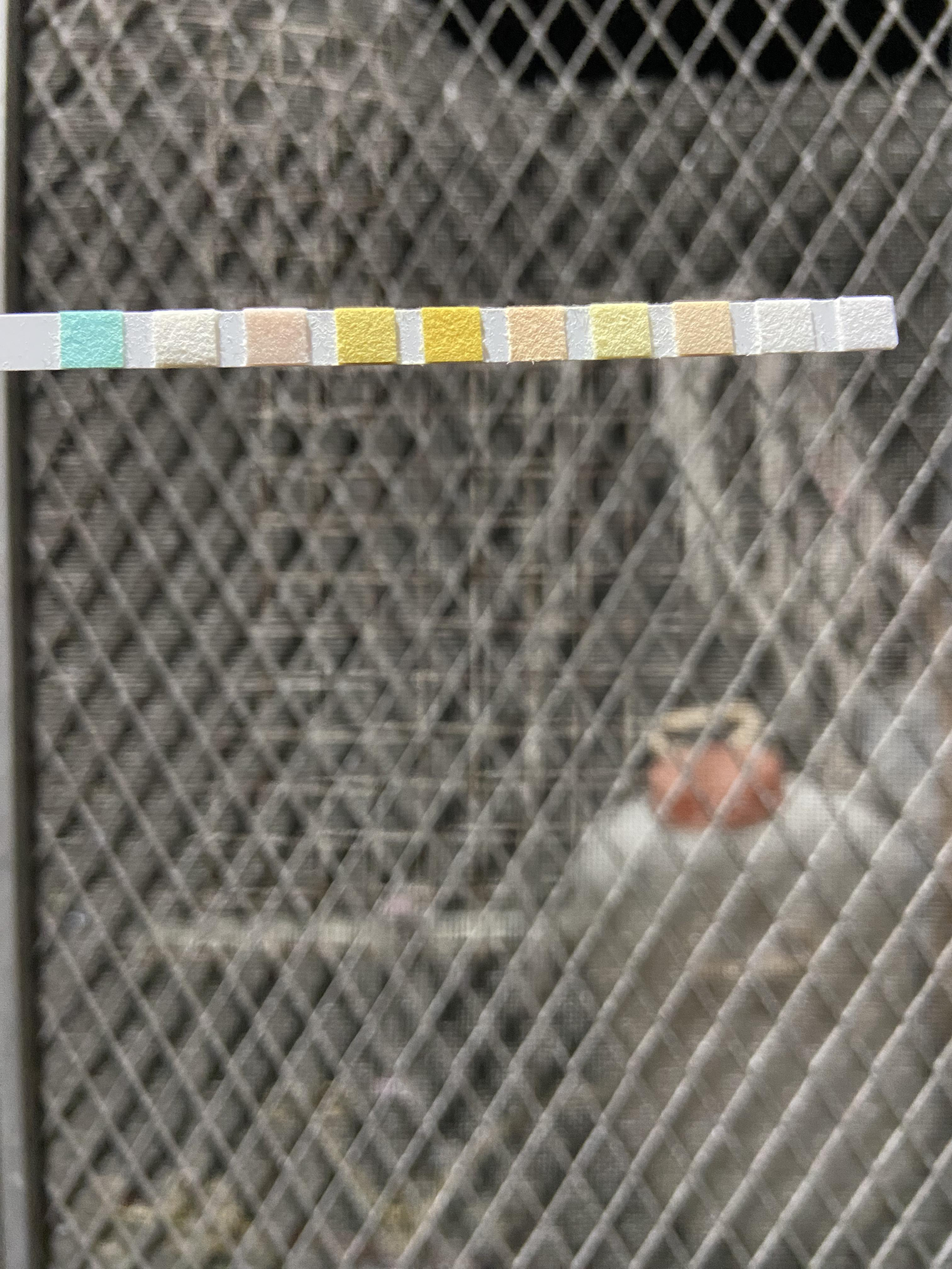Bilirubin: (155, 311, 217, 366)
Blood: (424, 307, 480, 361)
Glucose: (61, 313, 123, 367)
Ketone: (245, 310, 307, 364)
Leukocytes: (842, 297, 890, 348)
Nitrite: (759, 299, 812, 350)
Protein: (593, 305, 649, 357)
SpGravity: (337, 309, 394, 363)
Urobilinogen: (675, 302, 731, 352)
pH: (510, 307, 566, 361)
strip: (0, 297, 900, 372)
